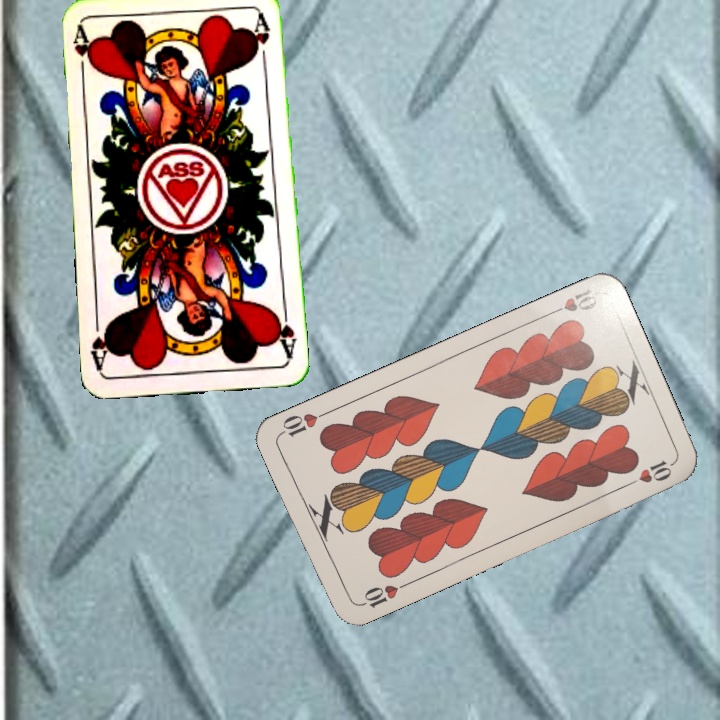H10: (543, 285, 600, 319), (354, 578, 410, 611)
HA: (270, 303, 299, 362), (69, 24, 97, 83)
